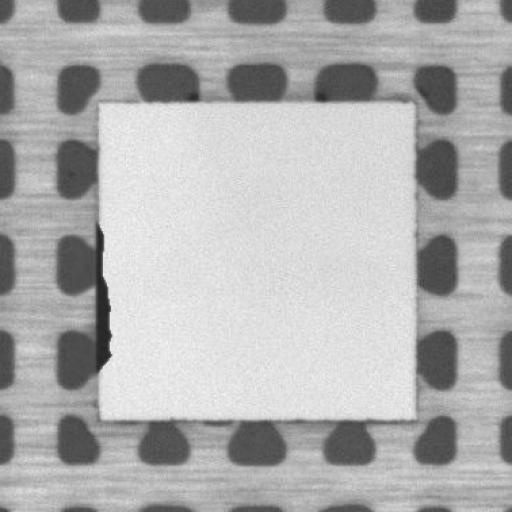DIE_BROKEN: (90, 219, 114, 374)
